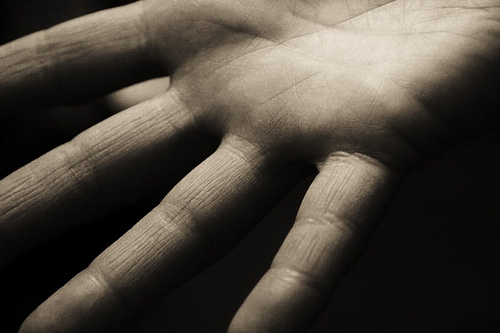palm: (172, 2, 472, 161)
